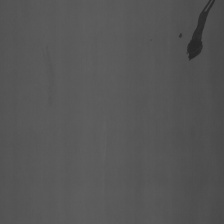oil_spot: (175, 0, 218, 63)
